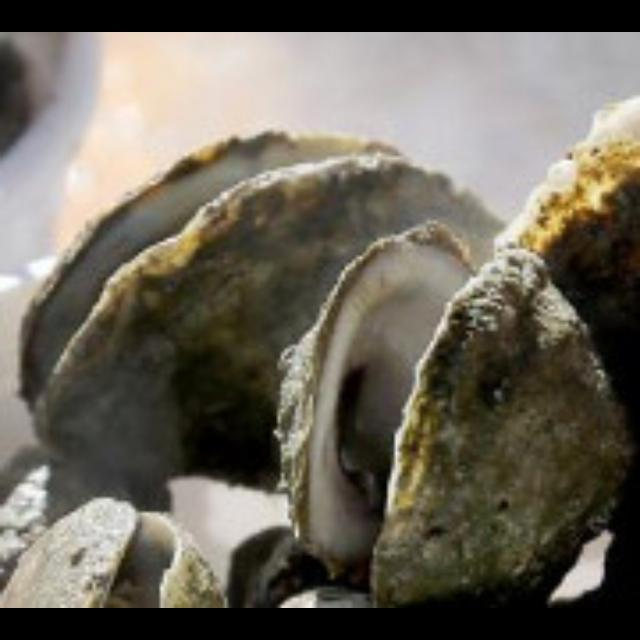Oyster-Closed: (506, 97, 636, 604), (0, 32, 43, 156)
Oyster-Open: (25, 133, 512, 515), (277, 227, 622, 604), (0, 496, 231, 604)
